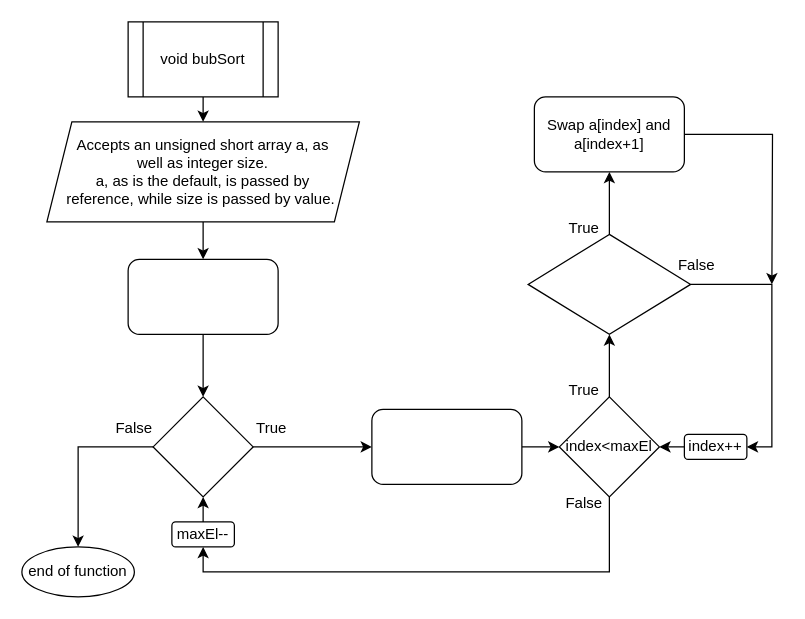
The diagram is 805 pixels wide and 619 high, and some of its shapes have lost their labels. Here are the shapes that lost their labels. From the top down, the box of each, then its label:
(127, 258, 278, 334): Declare/initialize in for loop: maxEl=size-1
(527, 233, 691, 334): a[index]>a[index+1]
(152, 396, 253, 497): maxEl>0
(371, 408, 522, 484): Declare/initialize in for loop: index=0
